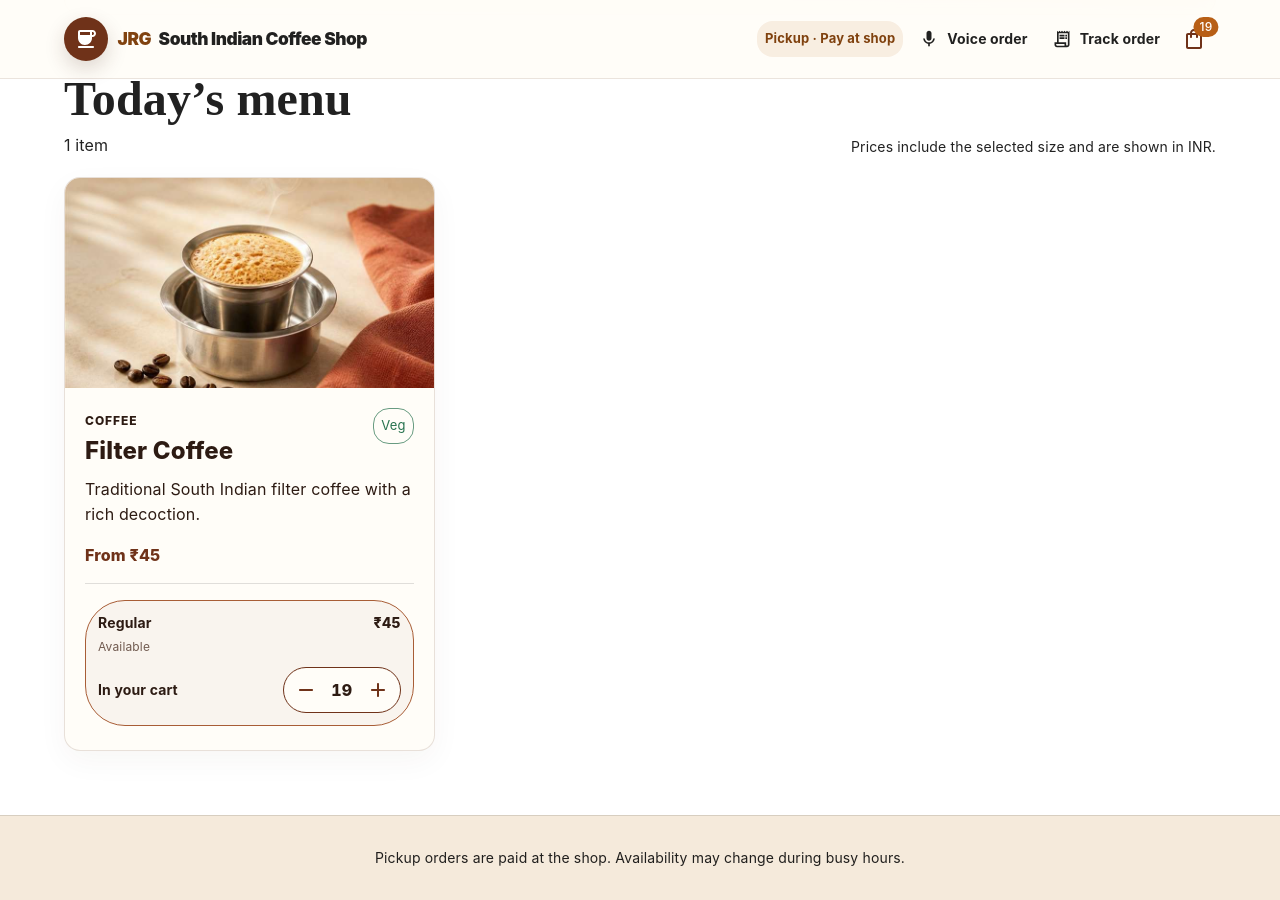
customer menu › explains the per-order limit when stock exceeds it
The image size is (1280, 900).
(page scrolled)
Click the button named "Increase Filter Coffee Regular quantity" at {"x": 378, "y": 690}, box [356,668,400,712]
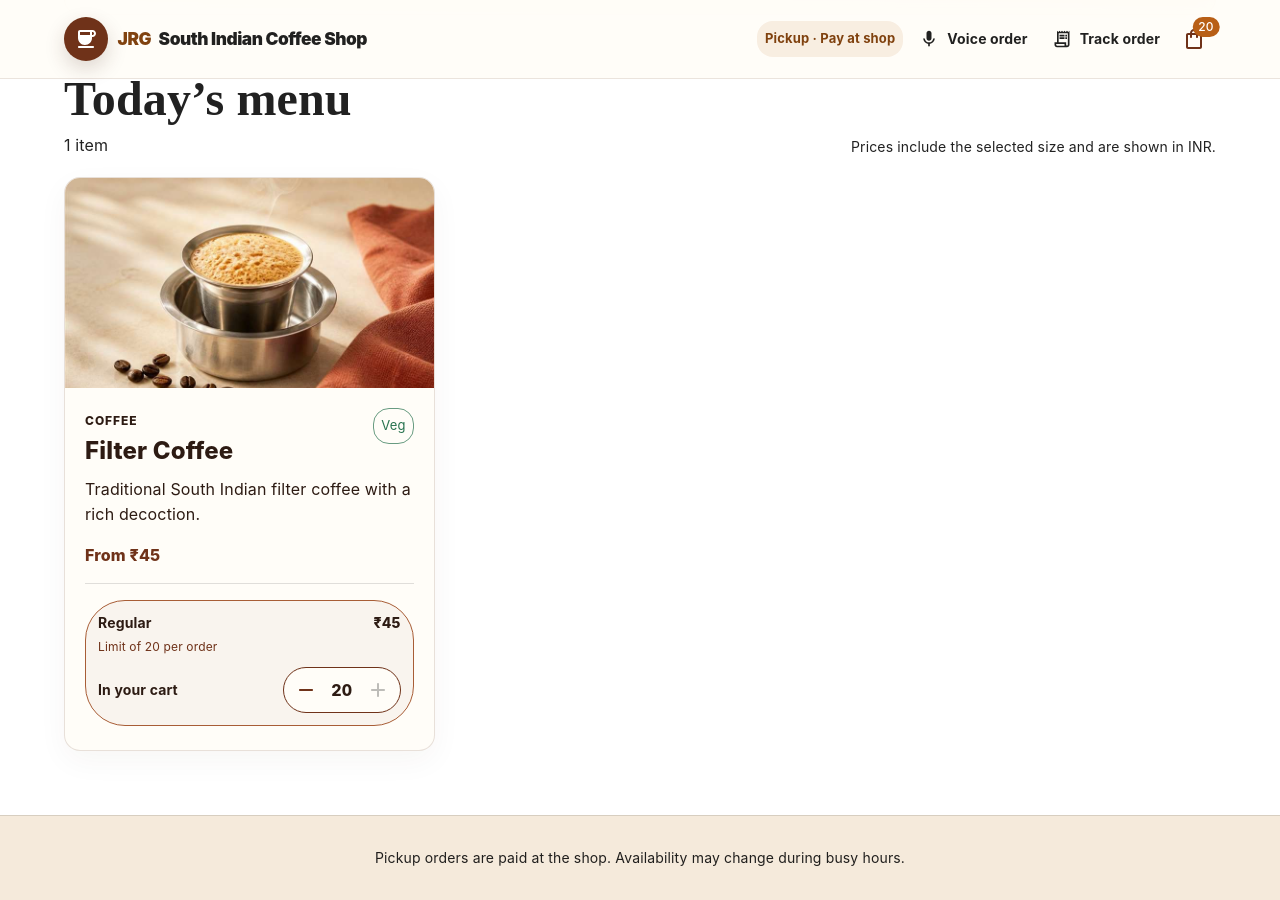
Expected: the text "Limit of 20 per order" is shown, [98,639,218,654]
Expected: the text named "Filter Coffee Regular quantity in cart" reads "20", [331,680,352,700]
Expected: the button named "Increase Filter Coffee Regular quantity" is disabled, [356,668,400,712]
